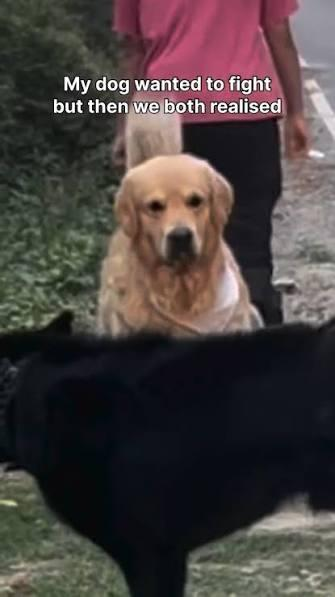adult_dog: (96, 155, 261, 338)
non-dog: (1, 310, 335, 597), (109, 1, 310, 330)
